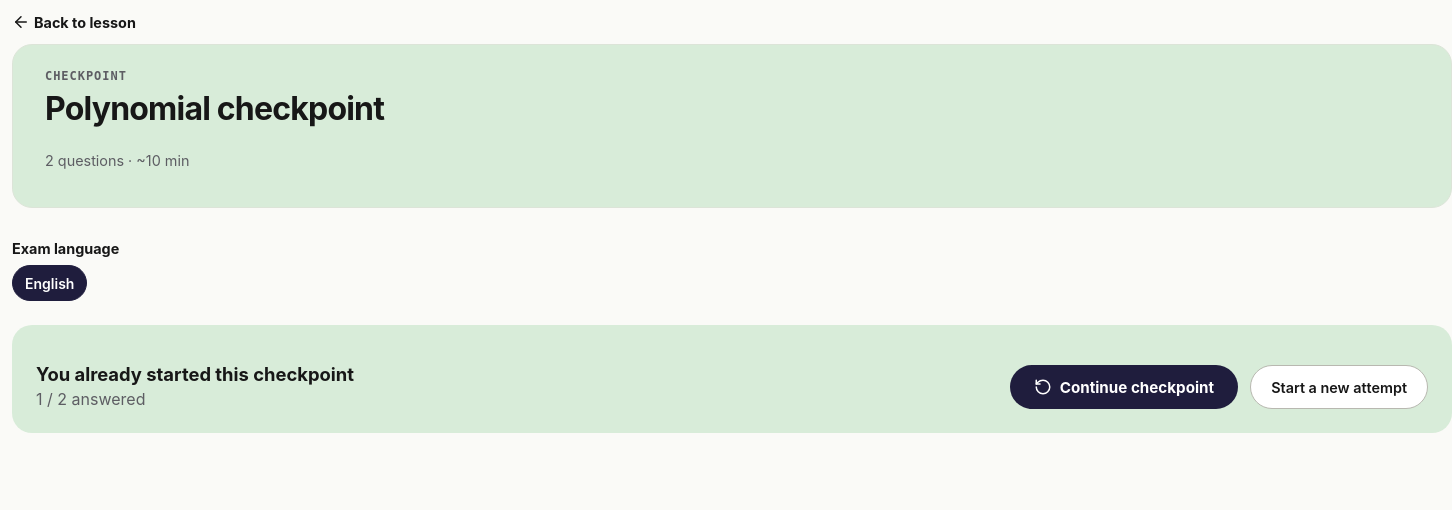
Test case: start new does not start when cancel fails
Click the button "Start a new attempt".
click(1339, 387)  # box [1250,365,1428,409]
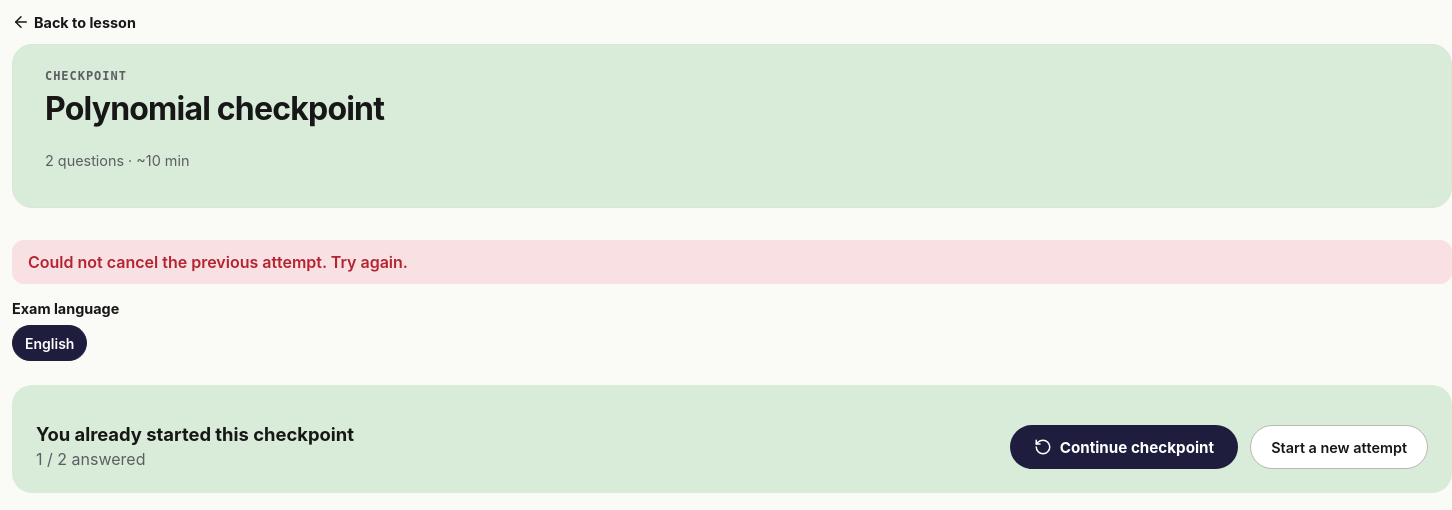
Check: the message "Could not cancel the previous attempt. Try again." is shown, box [12,240,1451,284]
